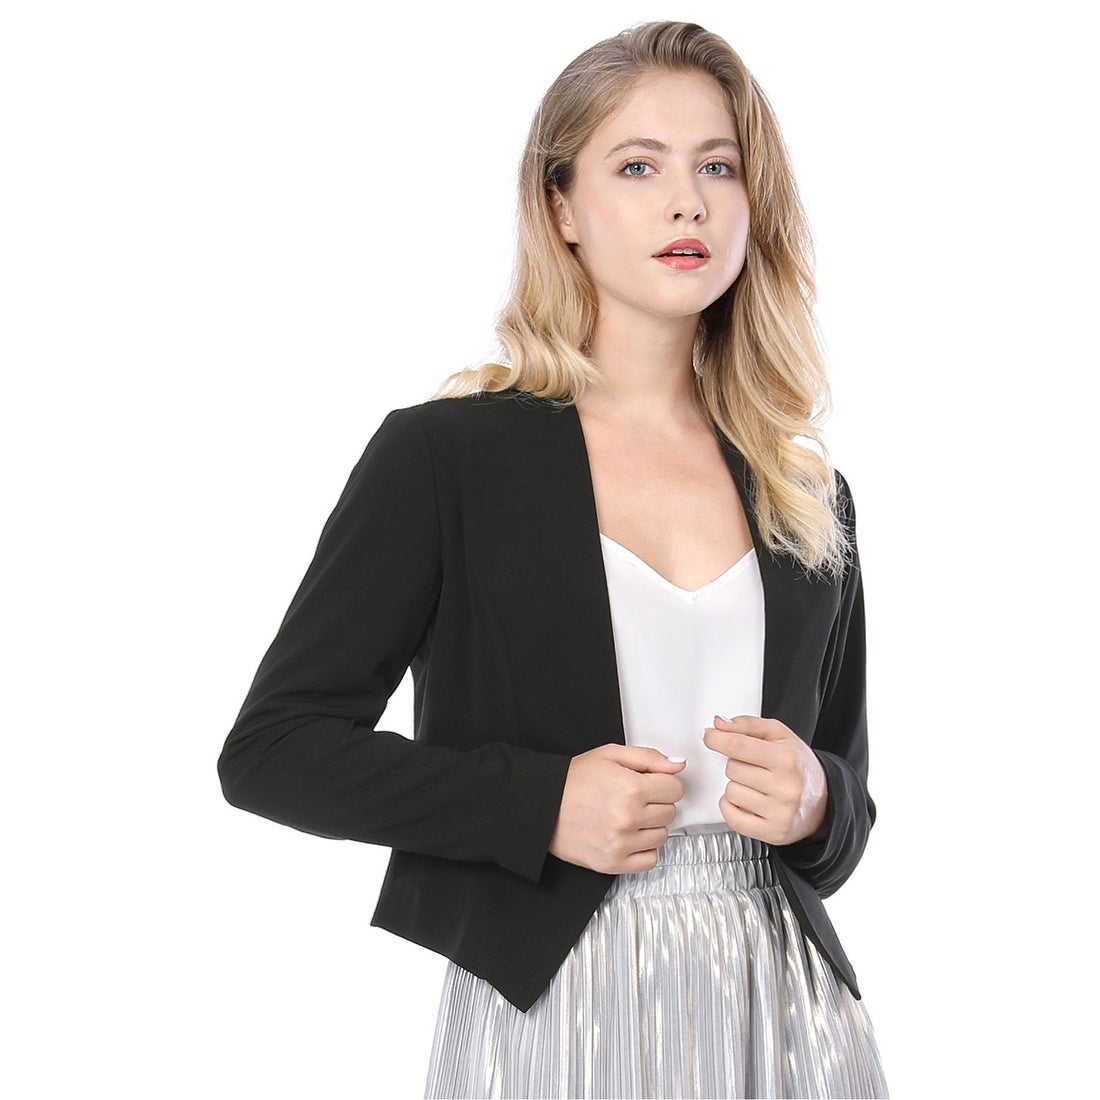F_W_suit jacket: (227, 371, 886, 967)
